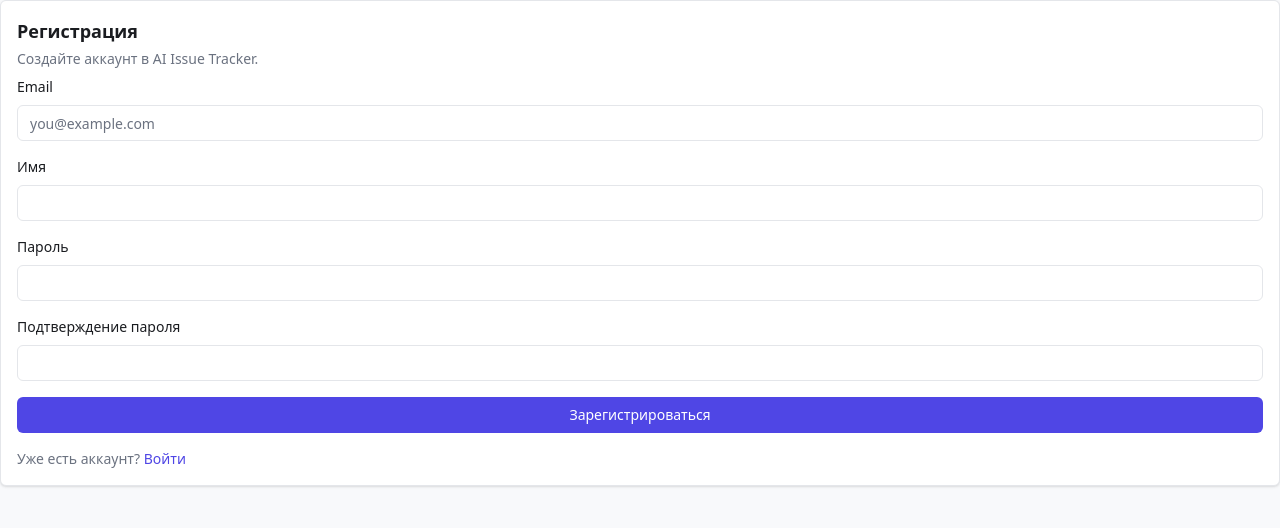
Test case: RegisterForm › показывает ошибку, если confirmPassword не совпадает с password
The image size is (1280, 528).
Type "user@example.com" into the field labelled "Email".
click(640, 123); type("user@example.com")  # box [17,105,1263,141]
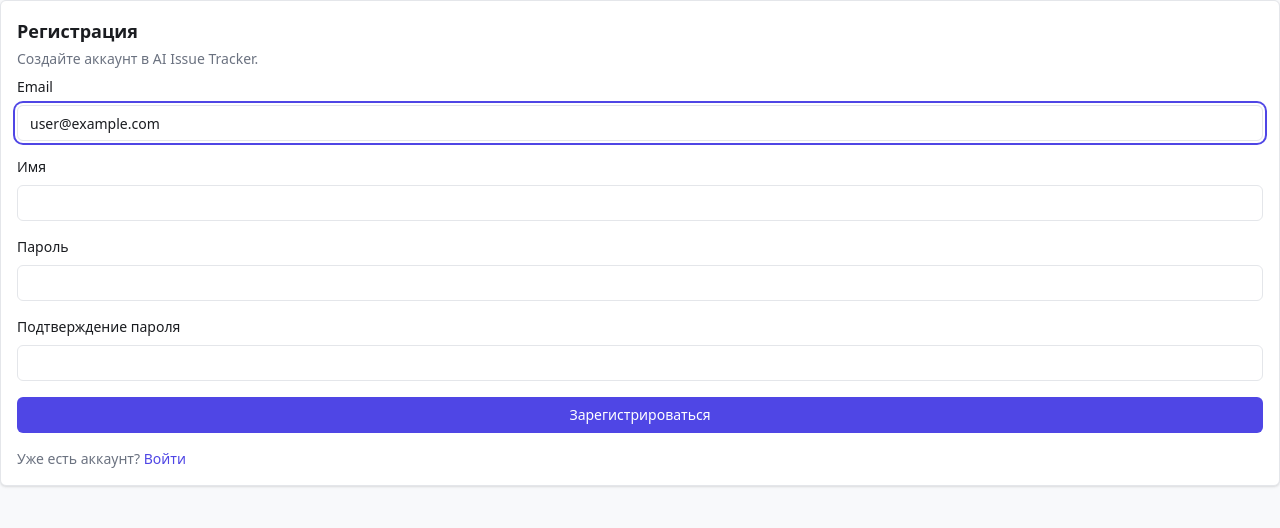
Type "User" into the field labelled "Имя".
click(640, 203); type("User")  # box [17,185,1263,221]
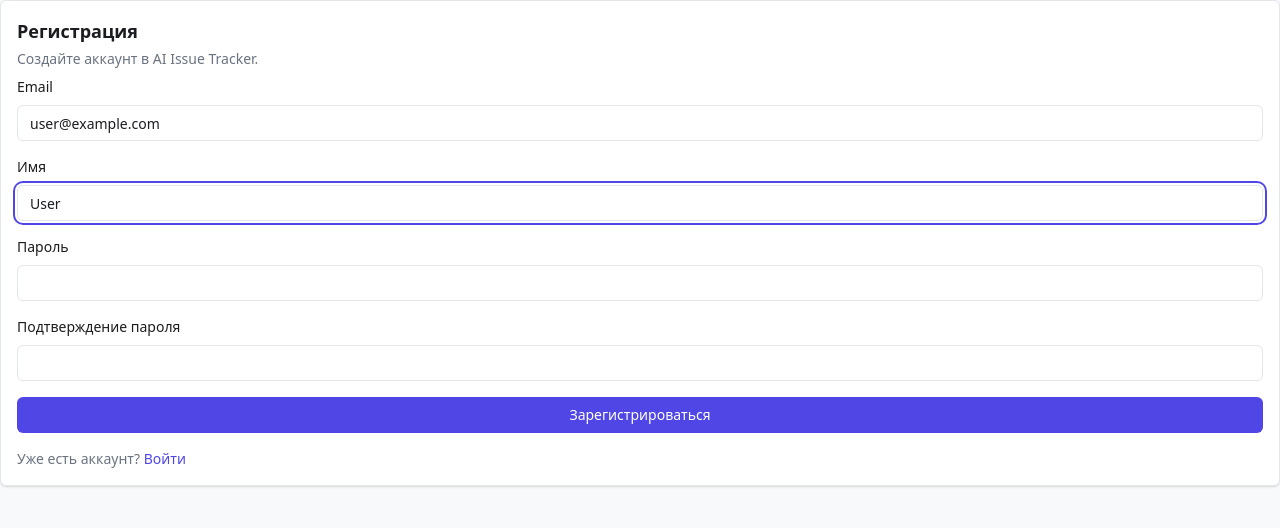
Type "secret123" into the password field labelled "Пароль".
click(640, 283); type("secret123")  # box [17,265,1263,301]
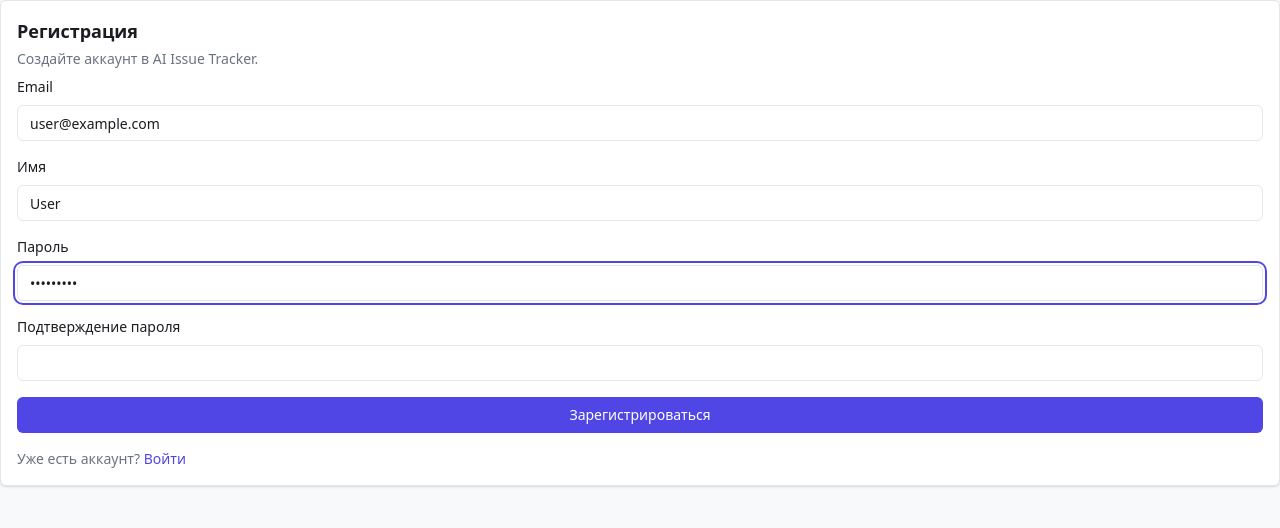
Type "different123" into the password field labelled "Подтверждение пароля".
click(640, 363); type("different123")  # box [17,345,1263,381]
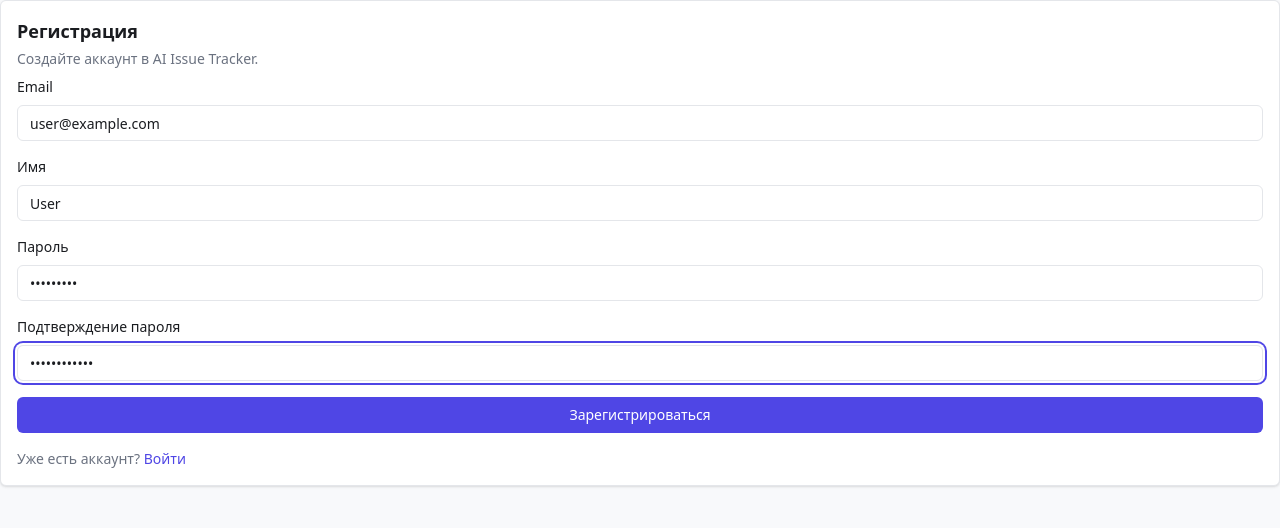
Click the button "Зарегистрироваться".
click(640, 415)  # box [17,397,1263,433]
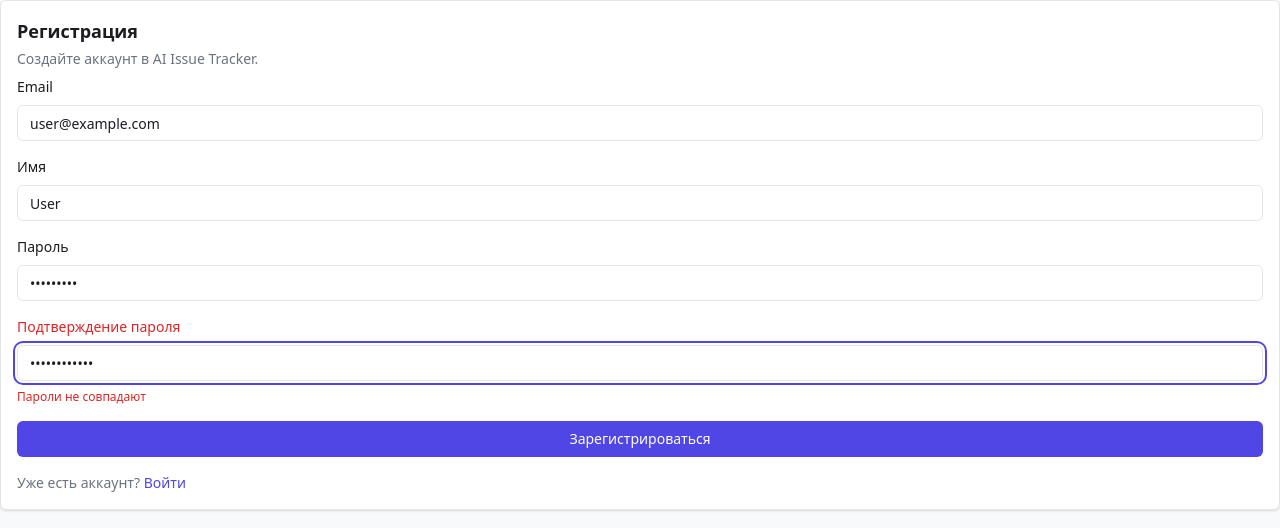
Now the text "Пароли не совпадают" is shown, box [17,388,146,405]
